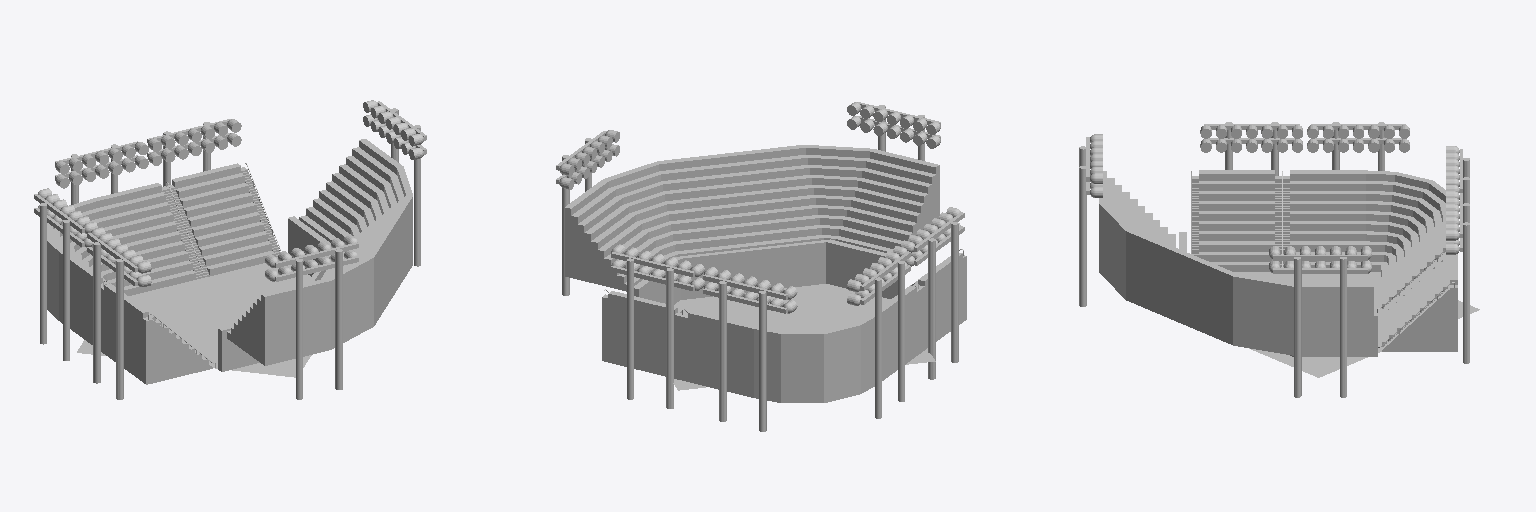
The model's file is BaseballStadium.obj.
3 renders of one model, left to right at view 1: azimuth 30°, elevation 25°; view 2: azimuth 150°, elevation 25°; view 3: azimuth 270°, elevation 25°, orthographic.
Visible parts, largest first — view 1: pPlane16, Bleacher_Chunk_Small:pPlane2, pPlane17, pPlane18, pPlane1, polySurface46, polySurface11, polySurface43, polySurface47, polySurface44, polySurface45, pPlane15 (+4 smaller); view 2: pPlane16, pPlane17, Bleacher_Chunk_Small:pPlane2, pCube3, pPlane18, polySurface45, polySurface44, pPlane1, polySurface11, polySurface43, polySurface46, polySurface47 (+3 smaller); view 3: Bleacher_Chunk_Small:pPlane2, pPlane17, pPlane16, pPlane2, polySurface47, pPlane13, polySurface11, polySurface43, pPlane18, pPlane1, polySurface46, polySurface44 (+3 smaller).
Part boxes in pixels (x1,y1,x2,y2): pPlane16: (227,226,393,365); Bleacher_Chunk_Small:pPlane2: (47,183,195,344); pPlane17: (299,139,412,294); pPlane18: (77,263,311,377); pPlane1: (172,163,275,275); polySurface46: (265,235,358,399); polySurface11: (87,227,151,399); polySurface43: (34,188,97,360); polySurface47: (363,100,426,266); polySurface44: (147,119,241,186); polySurface45: (55,141,148,204); pPlane15: (143,317,212,384); pPlane16: (731,145,939,252); pPlane17: (565,153,749,291); Bleacher_Chunk_Small:pPlane2: (688,285,916,402); pCube3: (634,239,897,304); pPlane18: (673,284,935,390); polySurface45: (703,267,797,431); polySurface44: (611,244,704,408); pPlane1: (608,291,681,378); polySurface11: (901,207,964,379); polySurface43: (847,246,910,418); polySurface46: (847,102,940,160); polySurface47: (556,130,619,295); Bleacher_Chunk_Small:pPlane2: (1290,170,1445,306); pPlane17: (1179,251,1373,356); pPlane16: (1099,171,1183,322); pPlane2: (1199,170,1274,271); polySurface47: (1269,246,1371,397); pPlane13: (1382,285,1457,351); polySurface11: (1200,122,1302,175); polySurface43: (1307,122,1409,170); pPlane18: (1235,272,1479,377); pPlane1: (1382,254,1457,346); polySurface46: (1079,134,1102,306); polySurface44: (1446,191,1469,363).
Bounding box in the file's own units: 52.61 × 24.5 × 52.61.